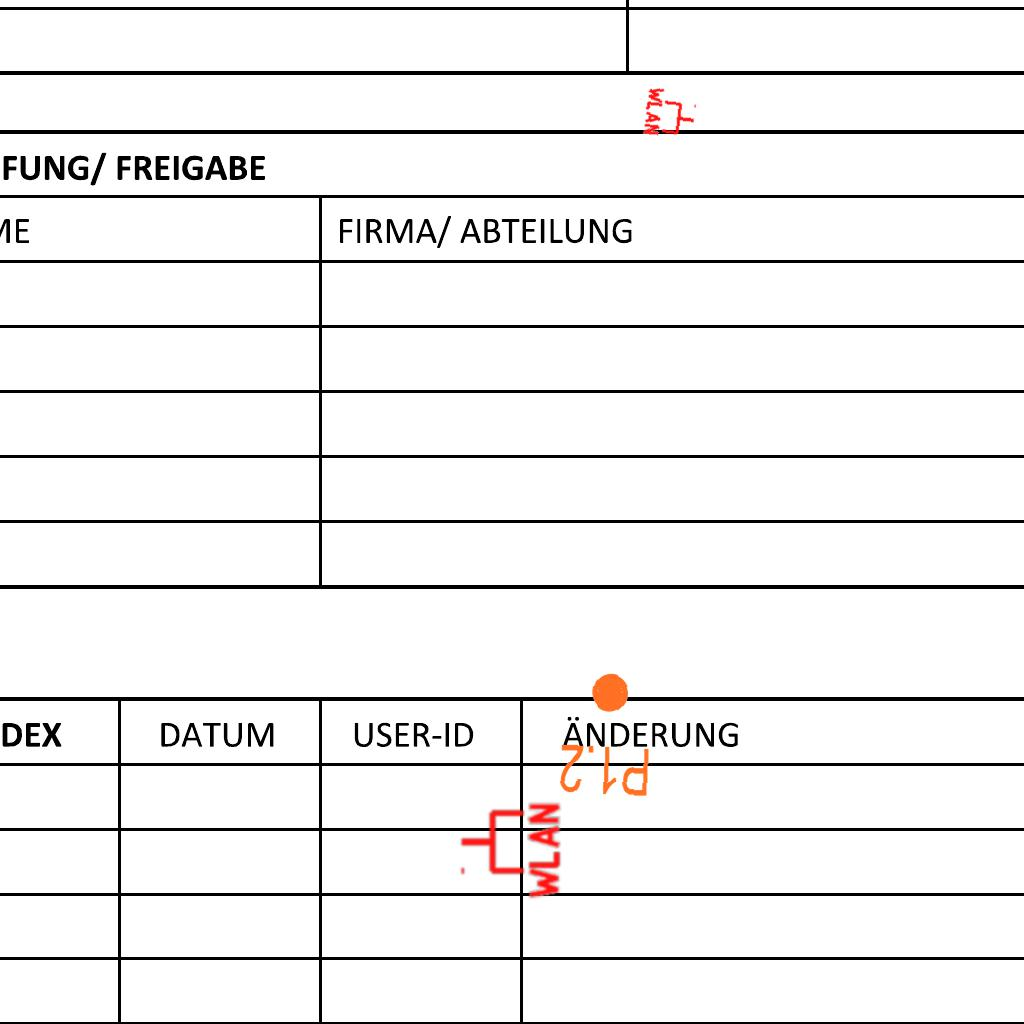Downlight_LED_Einbauleuchten_Flur: (556, 667, 657, 801)
WLAN: (457, 799, 562, 903), (642, 84, 700, 142)
